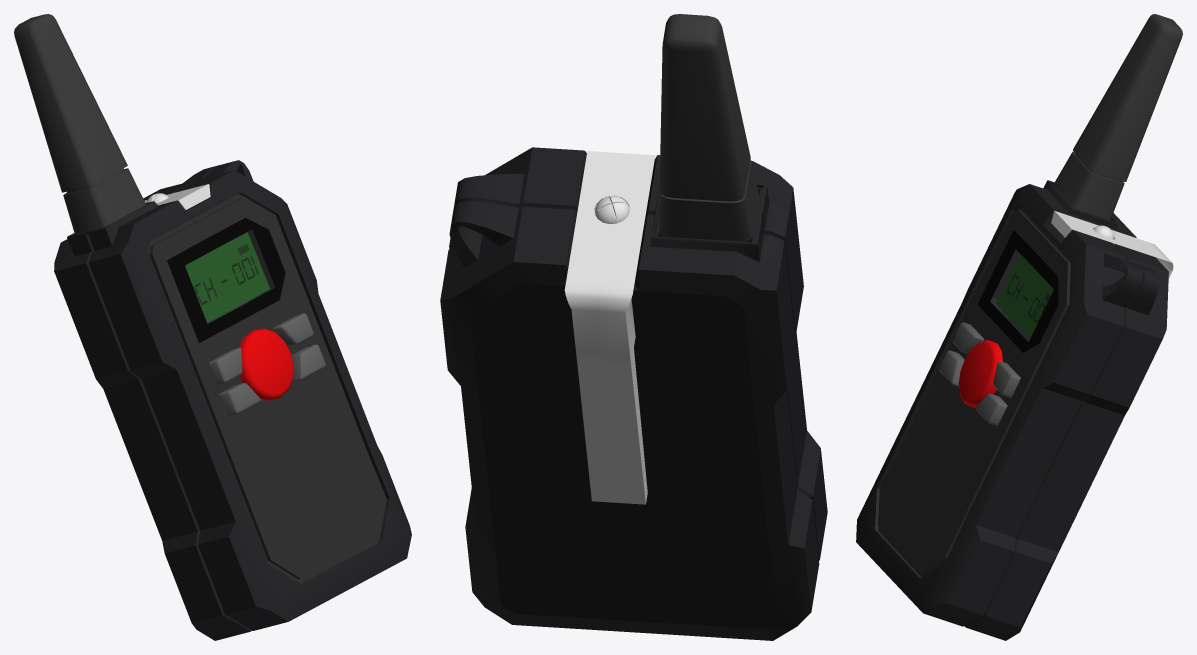
File: talk.glb
The picture shows the model from 3 angles, left to right: view 1: azimuth 30°, elevation 25°; view 2: azimuth 150°, elevation 25°; view 3: azimuth 270°, elevation 25°; orthographic projection. The views are drawn at different scales.
Parts seen in each view (by area): view 1: Cube, Cube.001, Cube.002, Cube.004, Cube.003, Cylinder, Plane; view 2: Cube, Plane, Cube.002, Sphere; view 3: Cube, Cube.001, Cube.002, Cube.004, Cube.003, Cylinder, Plane.
Boxes of the visible parts, bbox=[...] form: Cube: bbox=[54, 160, 411, 640]; Cube.001: bbox=[152, 198, 385, 578]; Cube.002: bbox=[14, 14, 146, 233]; Cube.004: bbox=[185, 232, 269, 322]; Cube.003: bbox=[209, 313, 325, 415]; Cylinder: bbox=[239, 328, 293, 400]; Plane: bbox=[144, 184, 210, 210]; Cube: bbox=[440, 147, 827, 640]; Plane: bbox=[564, 151, 655, 504]; Cube.002: bbox=[659, 14, 759, 241]; Sphere: bbox=[595, 195, 629, 223]; Cube: bbox=[856, 180, 1168, 640]; Cube.001: bbox=[878, 210, 1067, 572]; Cube.002: bbox=[1053, 14, 1182, 220]; Cube.004: bbox=[996, 254, 1053, 338]; Cube.003: bbox=[939, 322, 1020, 425]; Cylinder: bbox=[958, 340, 1002, 407]; Plane: bbox=[1051, 211, 1173, 278].
Bounding box in the file's own units: 2.45 × 4.58 × 2.59.
Materials: 9 (1 with a texture image).
